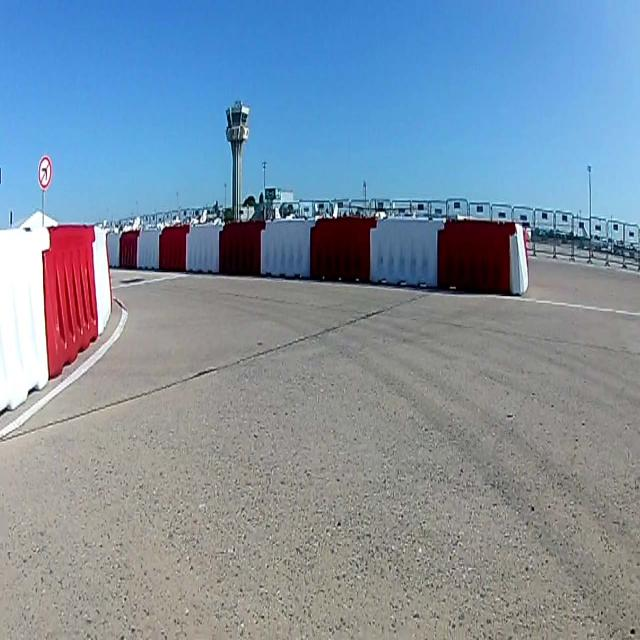soladonulmez: (40, 155, 51, 189)
